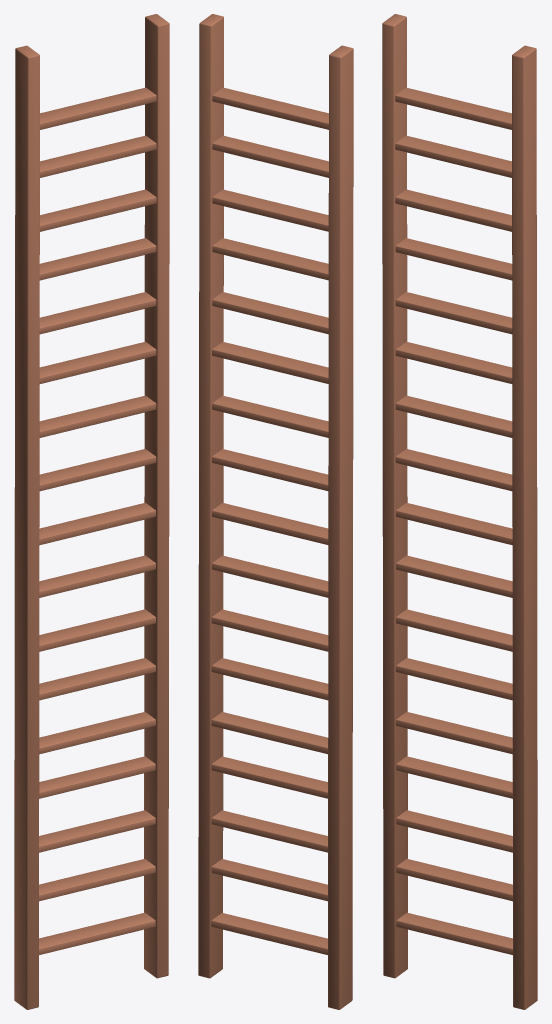
File: FM_H_SH_01_Ladder_001.fbx
The picture shows the model from 3 angles, left to right: view 1: azimuth 30°, elevation 25°; view 2: azimuth 150°, elevation 25°; view 3: azimuth 330°, elevation 25°; orthographic projection.
Parts seen in each view (by area): view 1: FM_H_SH_01_Ladder_001; view 2: FM_H_SH_01_Ladder_001; view 3: FM_H_SH_01_Ladder_001.
Part boxes in pixels (x1,y1,x2,y2): FM_H_SH_01_Ladder_001: [14, 14, 169, 1009]; FM_H_SH_01_Ladder_001: [198, 14, 353, 1009]; FM_H_SH_01_Ladder_001: [382, 14, 537, 1009].
Size of the model in its own units: 0.7325 by 4.7 by 0.1295.
